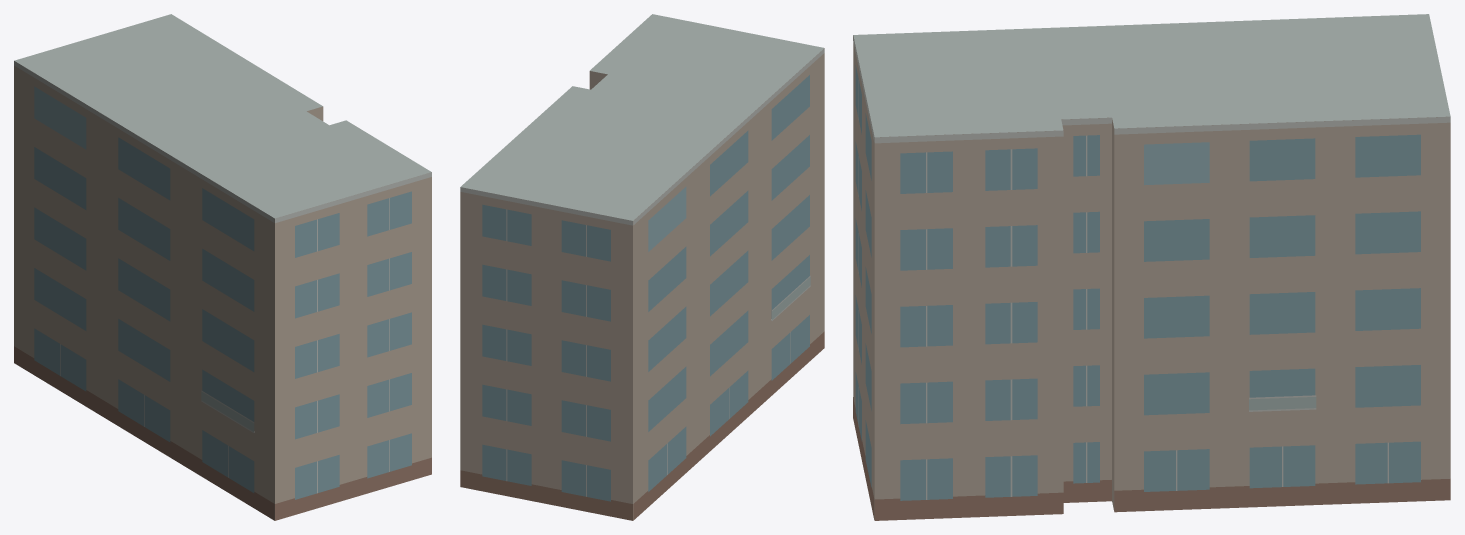
File: survey-upis-32949585.glb
3 views of the same model, side by side, from view 1: azimuth 30°, elevation 25°; view 2: azimuth 150°, elevation 25°; view 3: azimuth 270°, elevation 25° (orthographic). The views are drawn at different scales.
Parts seen in each view (by area): view 1: survey-upis-32949585.tmp; view 2: survey-upis-32949585.tmp; view 3: survey-upis-32949585.tmp.
Boxes of the visible parts, left/top/right/bottom form: survey-upis-32949585.tmp: left=14, top=14, right=431, bottom=520; survey-upis-32949585.tmp: left=460, top=14, right=824, bottom=520; survey-upis-32949585.tmp: left=853, top=14, right=1450, bottom=520.
Bounding box in the file's own units: 10.63 × 15.4 × 21.75.
